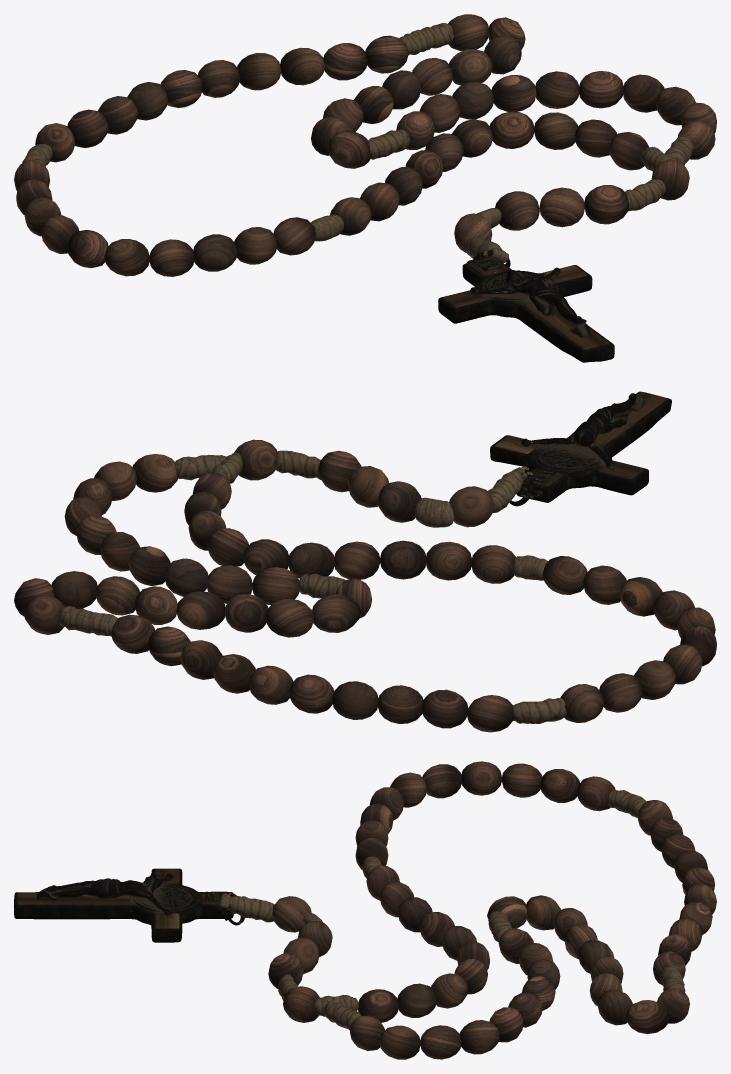
File: rosary.glb
The picture shows the model from 3 angles, top to bottom: view 1: azimuth 30°, elevation 25°; view 2: azimuth 150°, elevation 25°; view 3: azimuth 270°, elevation 25°; orthographic projection. The views are drawn at different scales.
Parts seen in each view (by area): view 1: VP_Free_Rosary; view 2: VP_Free_Rosary; view 3: VP_Free_Rosary.
Boxes of the visible parts, <box> form: VP_Free_Rosary: <box>14,14,716,362</box>; VP_Free_Rosary: <box>14,391,716,732</box>; VP_Free_Rosary: <box>14,761,716,1059</box>.
Bounding box in the file's own units: 0.0952 × 0.0068 × 0.1015.
5 materials, 5 textured.
